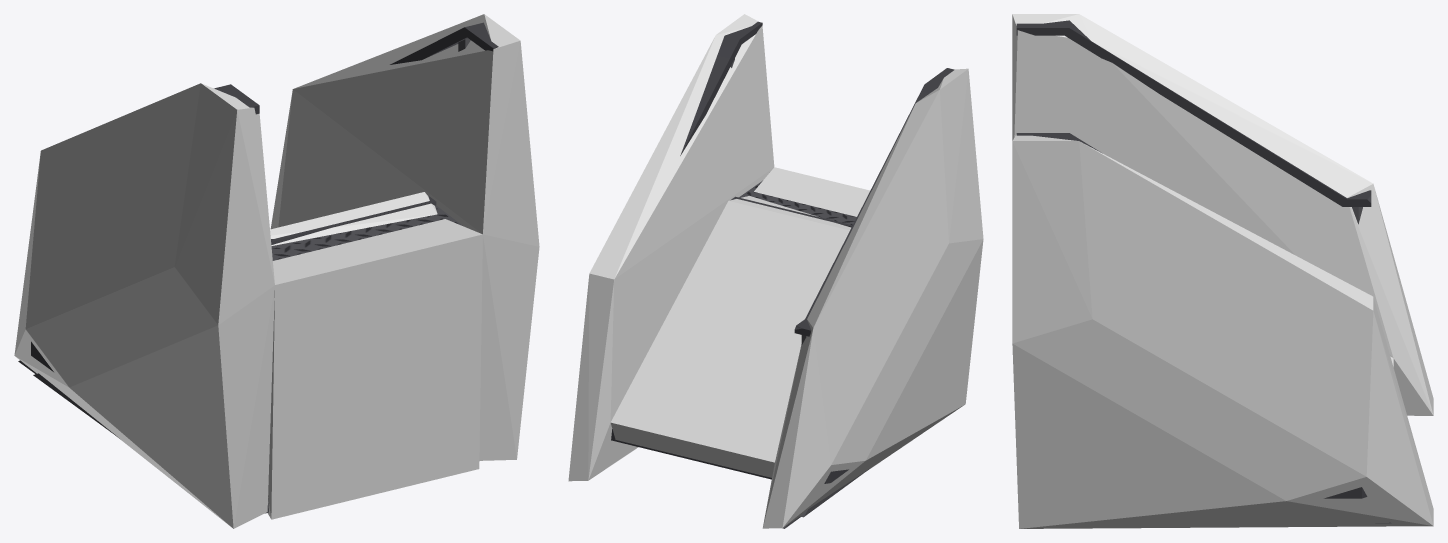
The model's file is SM_Prop_Stairs_04.fbx.
3 renders of one model, left to right at view 1: azimuth 30°, elevation 25°; view 2: azimuth 150°, elevation 25°; view 3: azimuth 270°, elevation 25°, orthographic. The views are drawn at different scales.
Visible parts, largest first — view 1: SM_Prop_Stairs_04_ConvexHulls, SM_Prop_Stairs_04_LOD0; view 2: SM_Prop_Stairs_04_ConvexHulls, SM_Prop_Stairs_04_LOD0; view 3: SM_Prop_Stairs_04_ConvexHulls, SM_Prop_Stairs_04_LOD0.
Boxes of the visible parts, bbox=[...] form: SM_Prop_Stairs_04_ConvexHulls: bbox=[14, 14, 539, 528]; SM_Prop_Stairs_04_LOD0: bbox=[18, 22, 498, 513]; SM_Prop_Stairs_04_ConvexHulls: bbox=[568, 14, 983, 528]; SM_Prop_Stairs_04_LOD0: bbox=[611, 21, 954, 528]; SM_Prop_Stairs_04_ConvexHulls: bbox=[1012, 14, 1433, 528]; SM_Prop_Stairs_04_LOD0: bbox=[1016, 20, 1391, 523].
Size of the model in its own units: 181 by 146 by 184.
Materials: 1 (1 with a texture image).
